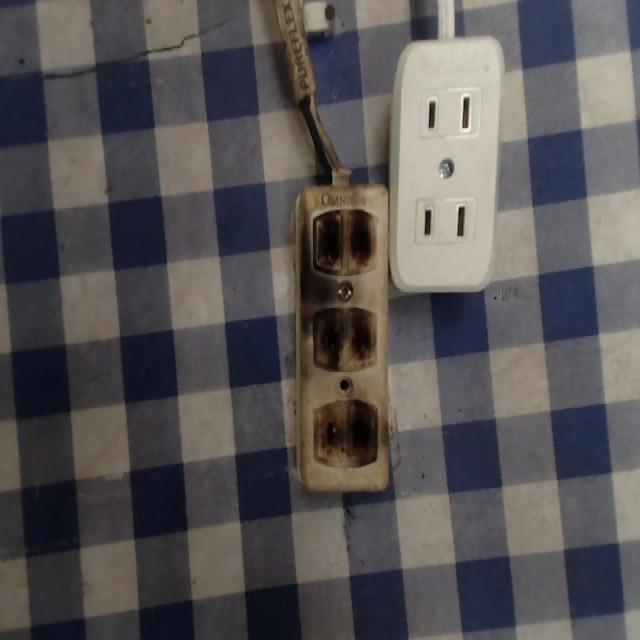-: (312, 404, 384, 481), (311, 304, 382, 375), (307, 208, 377, 275)
